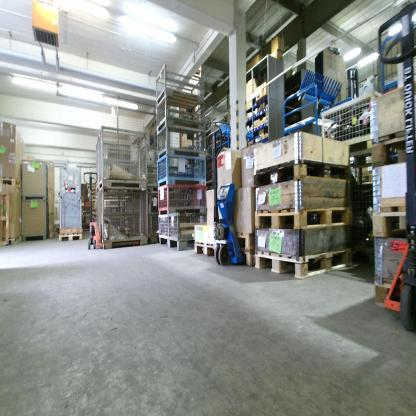pallet: (254, 248, 353, 287), (254, 159, 352, 193), (257, 201, 353, 232), (368, 127, 408, 170), (371, 203, 409, 245), (373, 276, 405, 309), (229, 227, 261, 249), (189, 240, 223, 257), (58, 227, 84, 245), (237, 247, 260, 267), (1, 179, 22, 192), (5, 234, 20, 249)
pallet_truck: (378, 1, 415, 336), (203, 125, 252, 269), (84, 169, 143, 248)
stillage: (318, 87, 396, 149), (349, 159, 394, 253), (97, 124, 149, 187), (99, 185, 150, 246), (155, 64, 205, 106), (155, 94, 205, 133), (156, 126, 206, 161), (169, 212, 208, 253), (158, 155, 206, 187), (157, 183, 209, 212), (20, 200, 50, 241), (20, 161, 49, 202), (141, 146, 161, 194), (200, 105, 232, 132), (144, 190, 159, 247), (201, 129, 230, 154), (159, 213, 170, 248), (94, 186, 100, 245), (96, 136, 99, 188)
